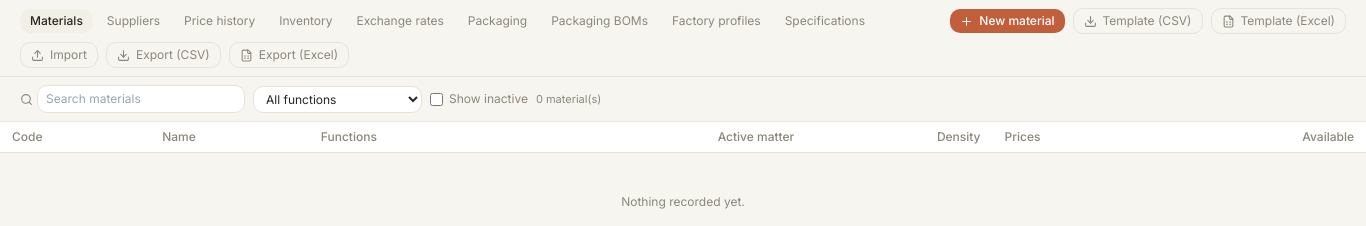
Test: MaterialsPage — Specifications tab (FVL-04.005 real consumer) › DOC-style acceptance: displays a real committed specification's exact values, and a SKU filter excludes another SKU's specification
The width and height of the screenshot is (1366, 226).
Click the button "Specifications". click: (825, 21)
box: [775,9,875,33]
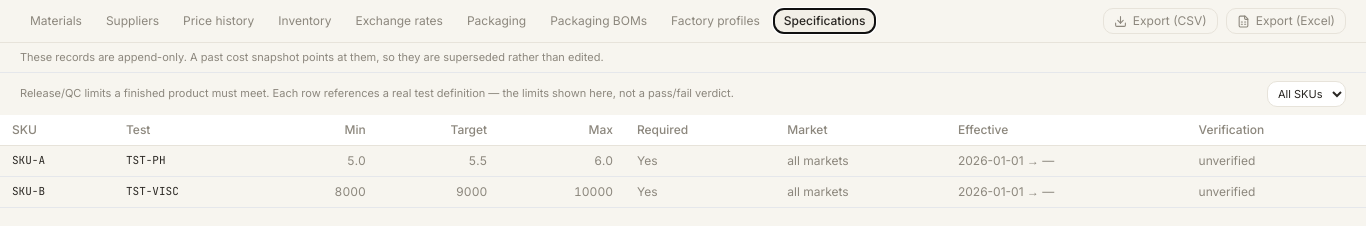
Expected: the text "SKU-A" is shown, [0,145,114,176]
Expected: the text "SKU-B" is shown, [0,176,114,207]
Expected: the text "TST-PH" is shown, [114,145,268,176]
Note: FPS12: filtering by SKU-A never shows SKU-B's specification.
Select "SKU-A" in the dropdown named "Filter by SKU". click: (1306, 94)
box: [1267,80,1346,106]
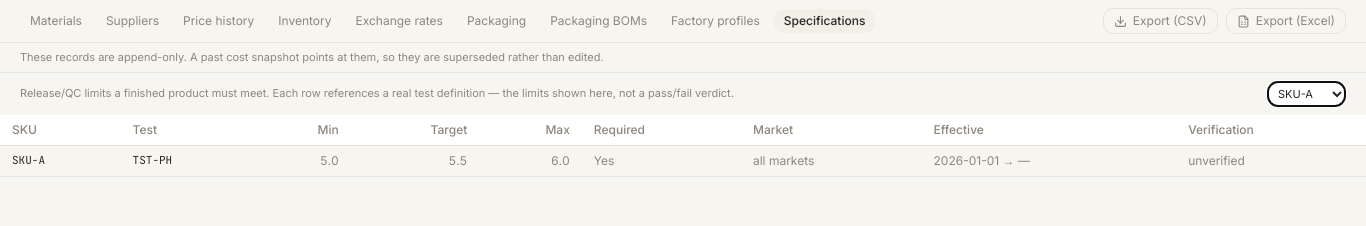
Expected: the text "SKU-A" is shown, [0,145,121,176]
Expected: the text "SKU-B" is gone
